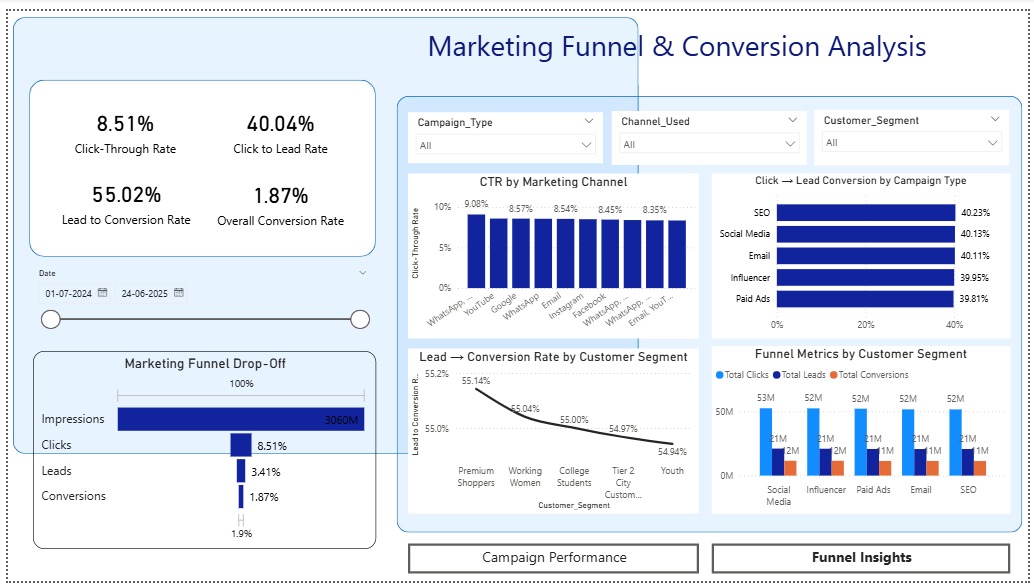

This screenshot's page, from the dashboard's own definition file:
{"tool":"powerbi","page":{"name":"Funnel Insights","canvas":[1360,760],"ordinal":1},"visuals":[{"type":"textbox","box":[988,710,300,36],"z":0},{"type":"actionButton","box":[938,710,398,40],"z":1000},{"type":"textbox","box":[562,710,334,36],"z":2000},{"type":"actionButton","box":[534,710,388,40],"z":3000},{"type":"shape","box":[6,8,834,582],"z":4000},{"type":"shape","box":[28,92,462,236],"z":5000},{"type":"shape","box":[518,114,834,582],"z":6000},{"type":"card","fields":{"Values":["marketing_campaign_data.CTR"]},"box":[56,114,200,90],"z":7000},{"type":"card","fields":{"Values":["marketing_campaign_data.Click to Lead Rate"]},"box":[262,114,204,90],"z":8000},{"type":"clusteredBarChart","title":"Click → Lead Conversion by Campaign Type","fields":{"Category":["marketing_campaign_data.Campaign_Type"],"Y":["marketing_campaign_data.Click to Lead Rate"]},"box":[938,216,398,220],"z":9000},{"type":"clusteredColumnChart","title":"CTR by Marketing Channel","fields":{"Category":["marketing_campaign_data.Channel_Used"],"Y":["marketing_campaign_data.CTR"]},"box":[534,216,388,220],"z":11000},{"type":"card","fields":{"Values":["marketing_campaign_data.Lead to Conversion Rate"]},"box":[56,206,202,94],"z":12000},{"type":"funnel","title":"Marketing Funnel Drop-Off","fields":{"Y":["marketing_campaign_data.Funnel Value"],"Category":["Funnel_Stages.Funnel Stage"]},"box":[32.5,453.8,457.5,263.8],"z":13000},{"type":"slicer","fields":{"Values":["marketing_campaign_data.Campaign_Type"]},"box":[534,135.3,260.4,68],"z":14000},{"type":"card","fields":{"Values":["marketing_campaign_data.Overall Conversion Rate"]},"box":[262,210,204,90],"z":15000},{"type":"lineChart","title":"Lead → Conversion Rate by Customer Segment","fields":{"Y":["marketing_campaign_data.Lead to Conversion Rate"],"Category":["marketing_campaign_data.Customer_Segment"]},"box":[534,450,388,220],"z":16000},{"type":"slicer","fields":{"Values":["marketing_campaign_data.Channel_Used"]},"box":[804.8,133.3,260.4,72],"z":17000},{"type":"clusteredColumnChart","title":"Funnel Metrics by Customer Segment","fields":{"Category":["marketing_campaign_data.Campaign_Type"],"Y":["marketing_campaign_data.Total Clicks","marketing_campaign_data.Total Leads","marketing_campaign_data.Total Conversions"]},"box":[938,446,398,224],"z":19000},{"type":"slicer","fields":{"Values":["marketing_campaign_data.Customer_Segment"]},"box":[1075.6,132,260.4,74],"z":20000},{"type":"slicer","fields":{"Values":["marketing_campaign_data.Date"]},"box":[28,338,462,94],"z":21000},{"type":"textbox","box":[447.5,15,887.5,77.5],"z":22000}]}

Visuals, with their boxes in screenshot pixels (x1, y1, x2, y2), scaled from the page's 1360x760 canvas onto the 1034x585 screenshot:
textbox: rect(751, 547, 979, 574)
actionButton: rect(713, 547, 1016, 577)
textbox: rect(427, 547, 681, 574)
actionButton: rect(406, 547, 701, 577)
shape: rect(5, 6, 639, 454)
shape: rect(21, 71, 373, 252)
shape: rect(394, 88, 1028, 536)
card - marketing_campaign_data.CTR: rect(43, 88, 195, 157)
card - marketing_campaign_data.Click to Lead Rate: rect(199, 88, 354, 157)
"Click → Lead Conversion by Campaign Type" clusteredBarChart: rect(713, 166, 1016, 336)
"CTR by Marketing Channel" clusteredColumnChart: rect(406, 166, 701, 336)
card - marketing_campaign_data.Lead to Conversion Rate: rect(43, 159, 196, 231)
"Marketing Funnel Drop-Off" funnel: rect(25, 349, 373, 552)
slicer - marketing_campaign_data.Campaign_Type: rect(406, 104, 604, 156)
card - marketing_campaign_data.Overall Conversion Rate: rect(199, 162, 354, 231)
"Lead → Conversion Rate by Customer Segment" lineChart: rect(406, 346, 701, 516)
slicer - marketing_campaign_data.Channel_Used: rect(612, 103, 810, 158)
"Funnel Metrics by Customer Segment" clusteredColumnChart: rect(713, 343, 1016, 516)
slicer - marketing_campaign_data.Customer_Segment: rect(818, 102, 1016, 159)
slicer - marketing_campaign_data.Date: rect(21, 260, 373, 333)
textbox: rect(340, 12, 1015, 71)
